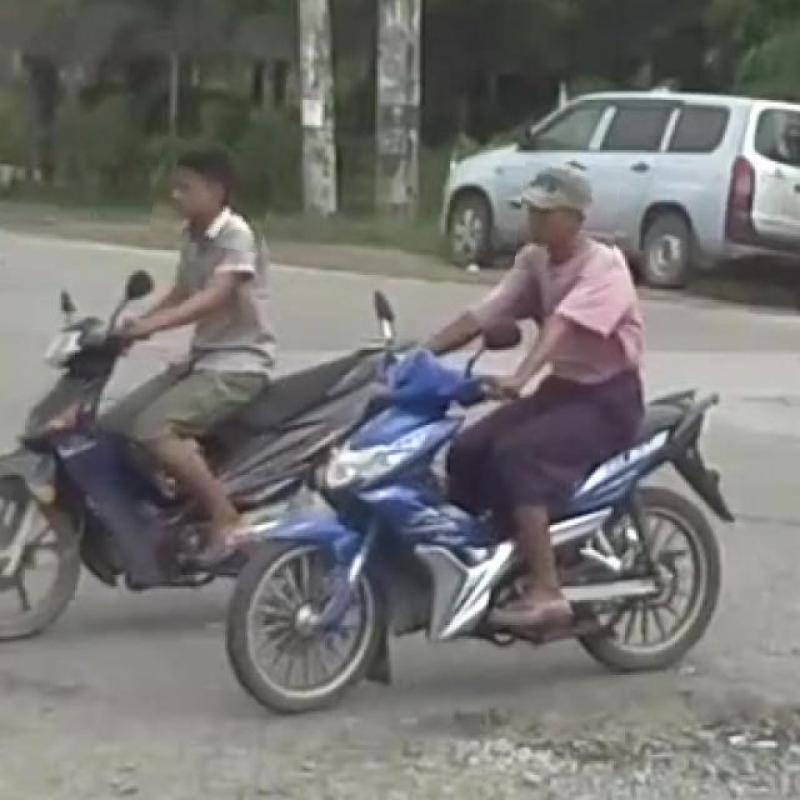nohelmet: (152, 140, 272, 249), (516, 163, 618, 277)
